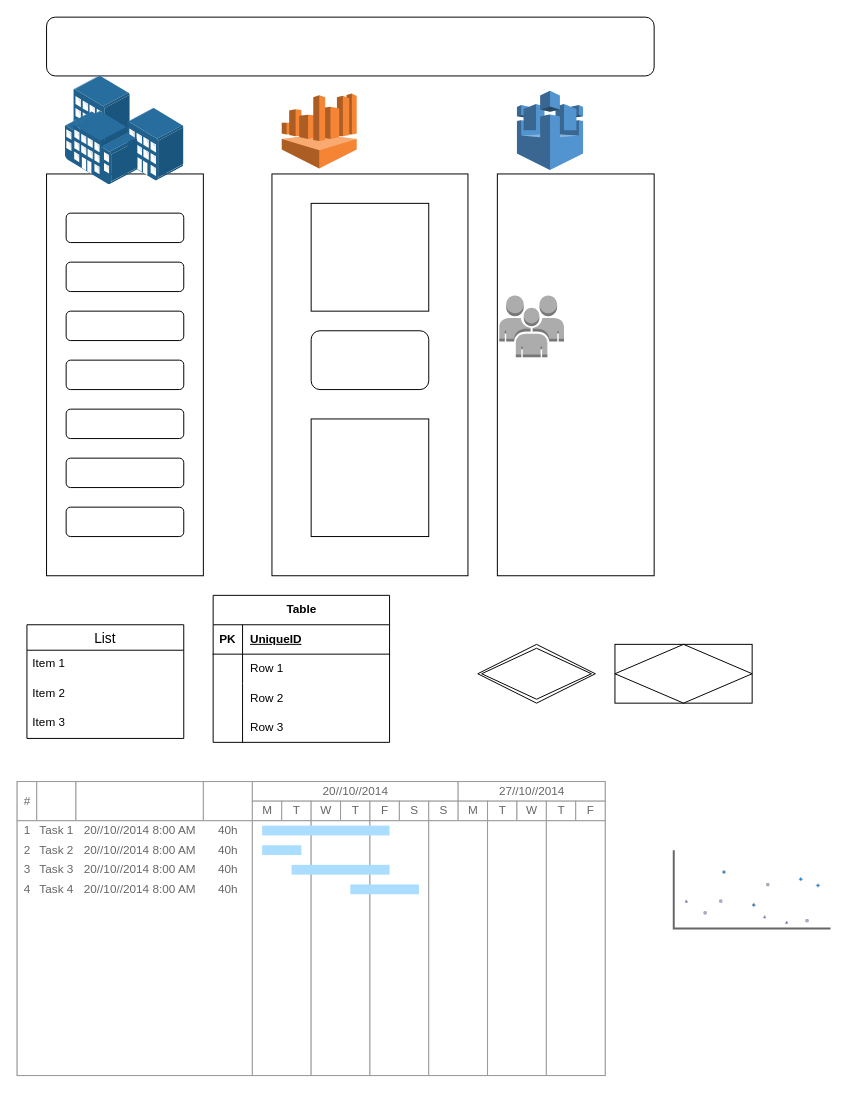
Some shapes in this 848 by 1093 pixel diagram are drawn without their labels. Each missing label, with the centre of its shape:
"Associative Entity" goes at point 683,673.
"Effort" goes at point 227,801.
"Relationship" goes at point 536,673.
"Start" goes at point 139,801.
"Task" goes at point 56,801.
